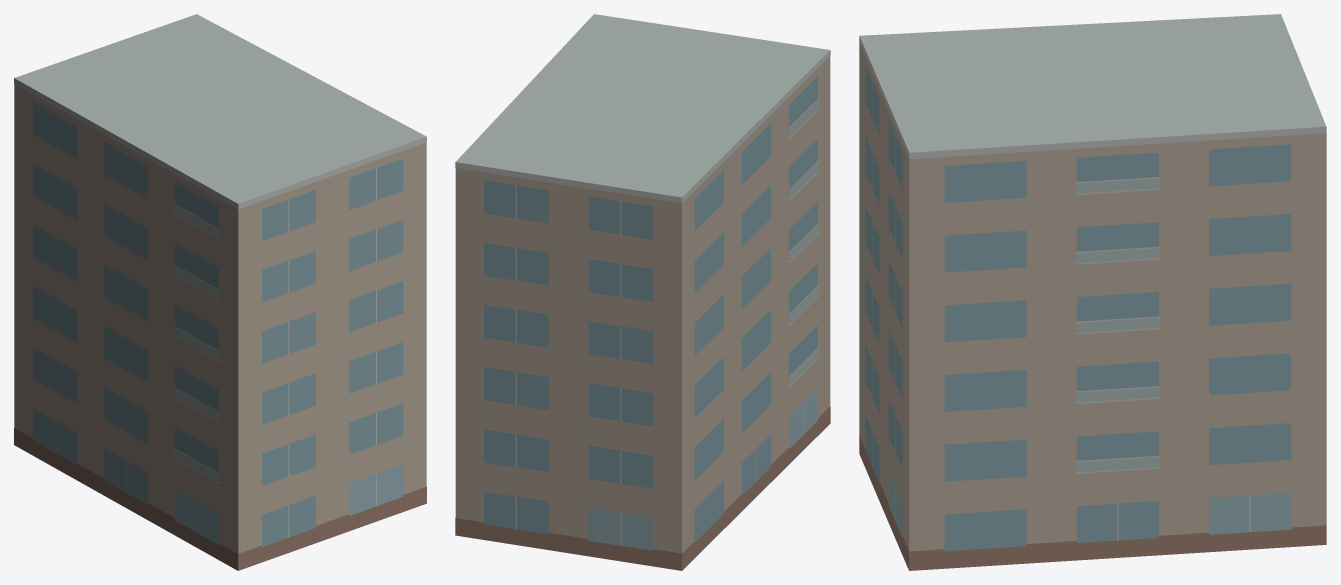
The model's file is survey-upis-32882589.glb.
3 views of the same model, side by side, from view 1: azimuth 30°, elevation 25°; view 2: azimuth 150°, elevation 25°; view 3: azimuth 270°, elevation 25° (orthographic). The views are drawn at different scales.
Parts seen in each view (by area): view 1: survey-upis-32882589.tmp; view 2: survey-upis-32882589.tmp; view 3: survey-upis-32882589.tmp.
Part boxes in pixels (bbox=[...]): survey-upis-32882589.tmp: bbox=[14, 14, 426, 570]; survey-upis-32882589.tmp: bbox=[455, 14, 830, 570]; survey-upis-32882589.tmp: bbox=[859, 14, 1326, 570].
Size of the model in its own units: 11.11 by 15.6 by 15.8.
